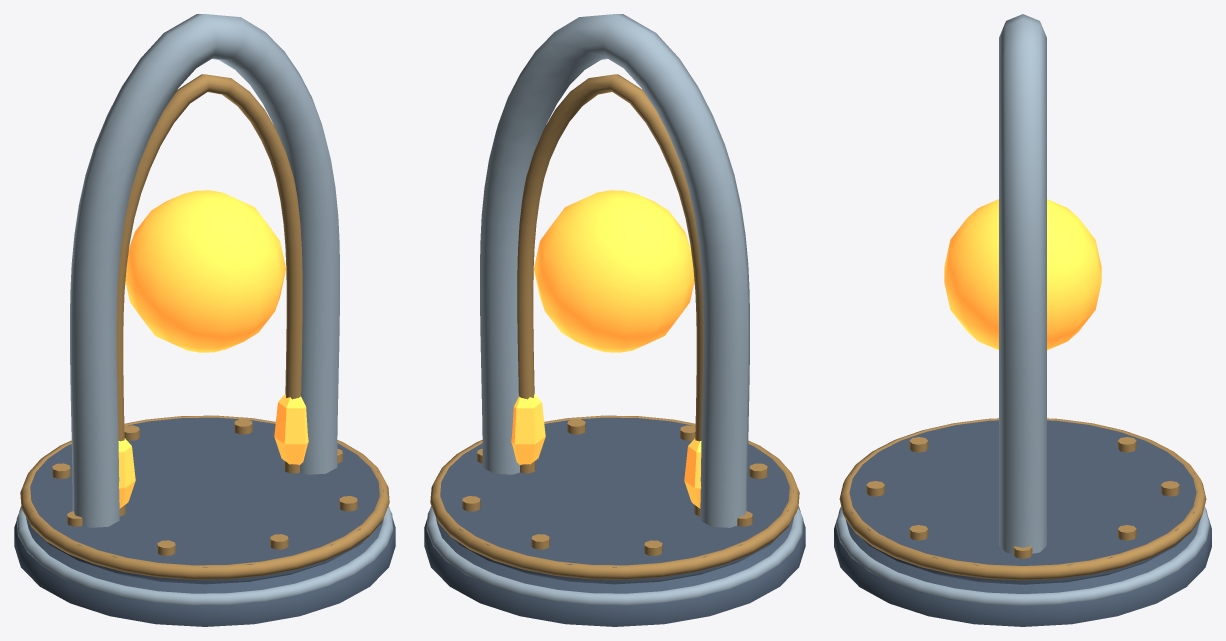
File: moonsteel-convergence-solar-recall-beacon-f055db47__18166.glb
The picture shows the model from 3 angles, left to right: view 1: azimuth 30°, elevation 25°; view 2: azimuth 150°, elevation 25°; view 3: azimuth 270°, elevation 25°; orthographic projection.
Visible parts, largest first — view 1: solar-recall-beacon; view 2: solar-recall-beacon; view 3: solar-recall-beacon.
Boxes of the visible parts, x1,y1,x2,y2 form: solar-recall-beacon: (14, 14, 395, 626); solar-recall-beacon: (424, 14, 805, 626); solar-recall-beacon: (834, 14, 1211, 626).
Bounding box in the file's own units: 2.2 × 3.39 × 2.2.
